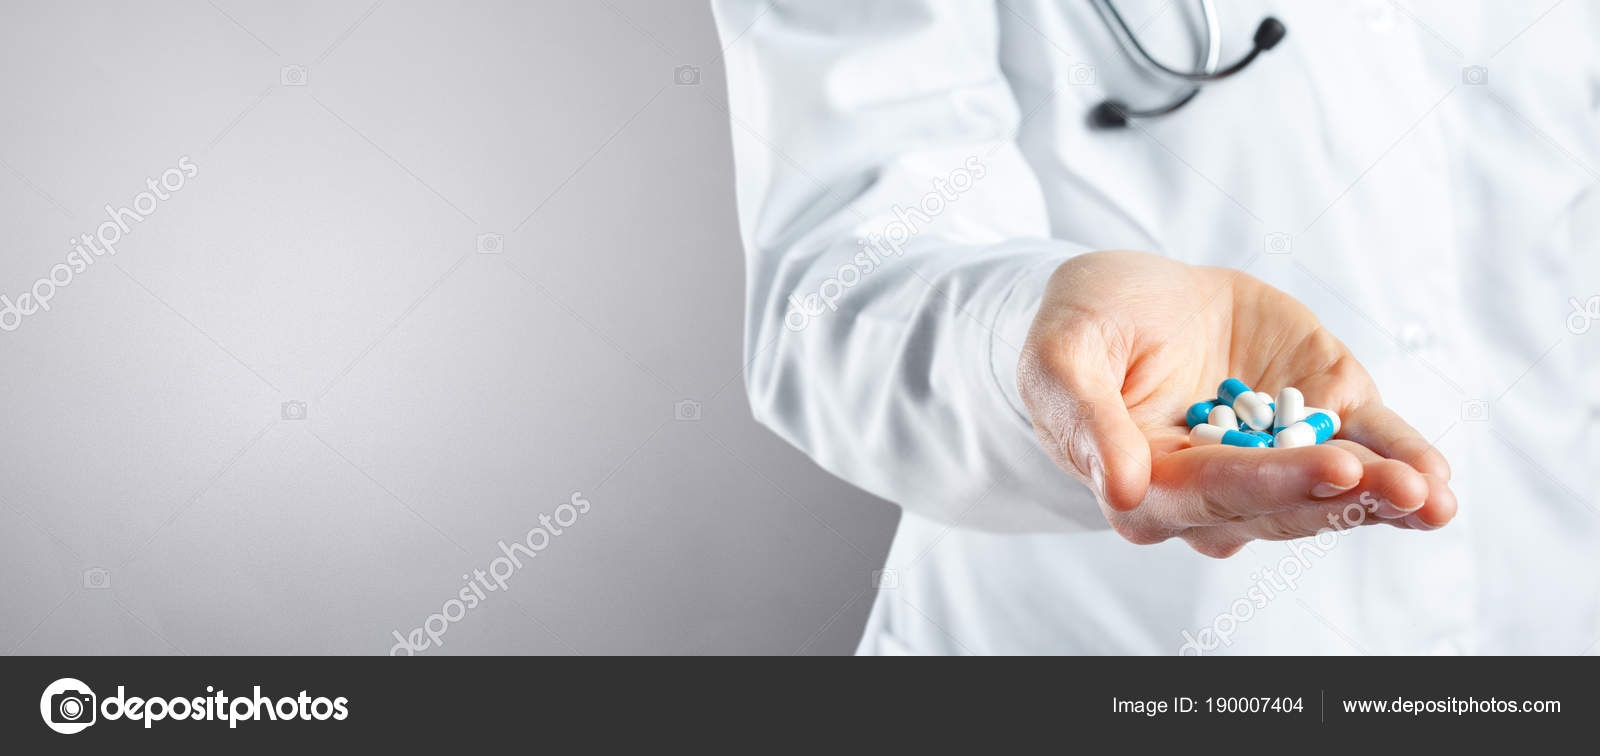pills: (1214, 376, 1268, 427), (1278, 408, 1328, 457)
